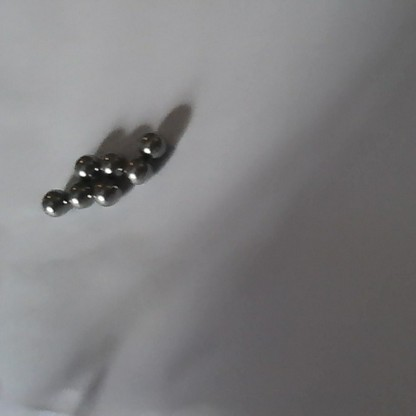ironball: (39, 184, 70, 219), (94, 177, 124, 209), (135, 130, 167, 159), (124, 156, 154, 186), (65, 180, 95, 209), (95, 150, 124, 177), (72, 152, 98, 177)
